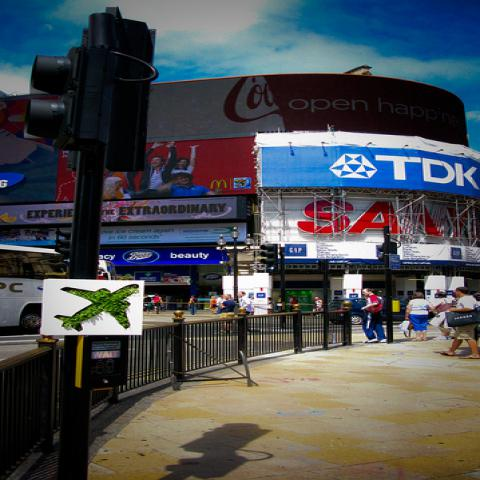bus: (0, 243, 112, 328)
